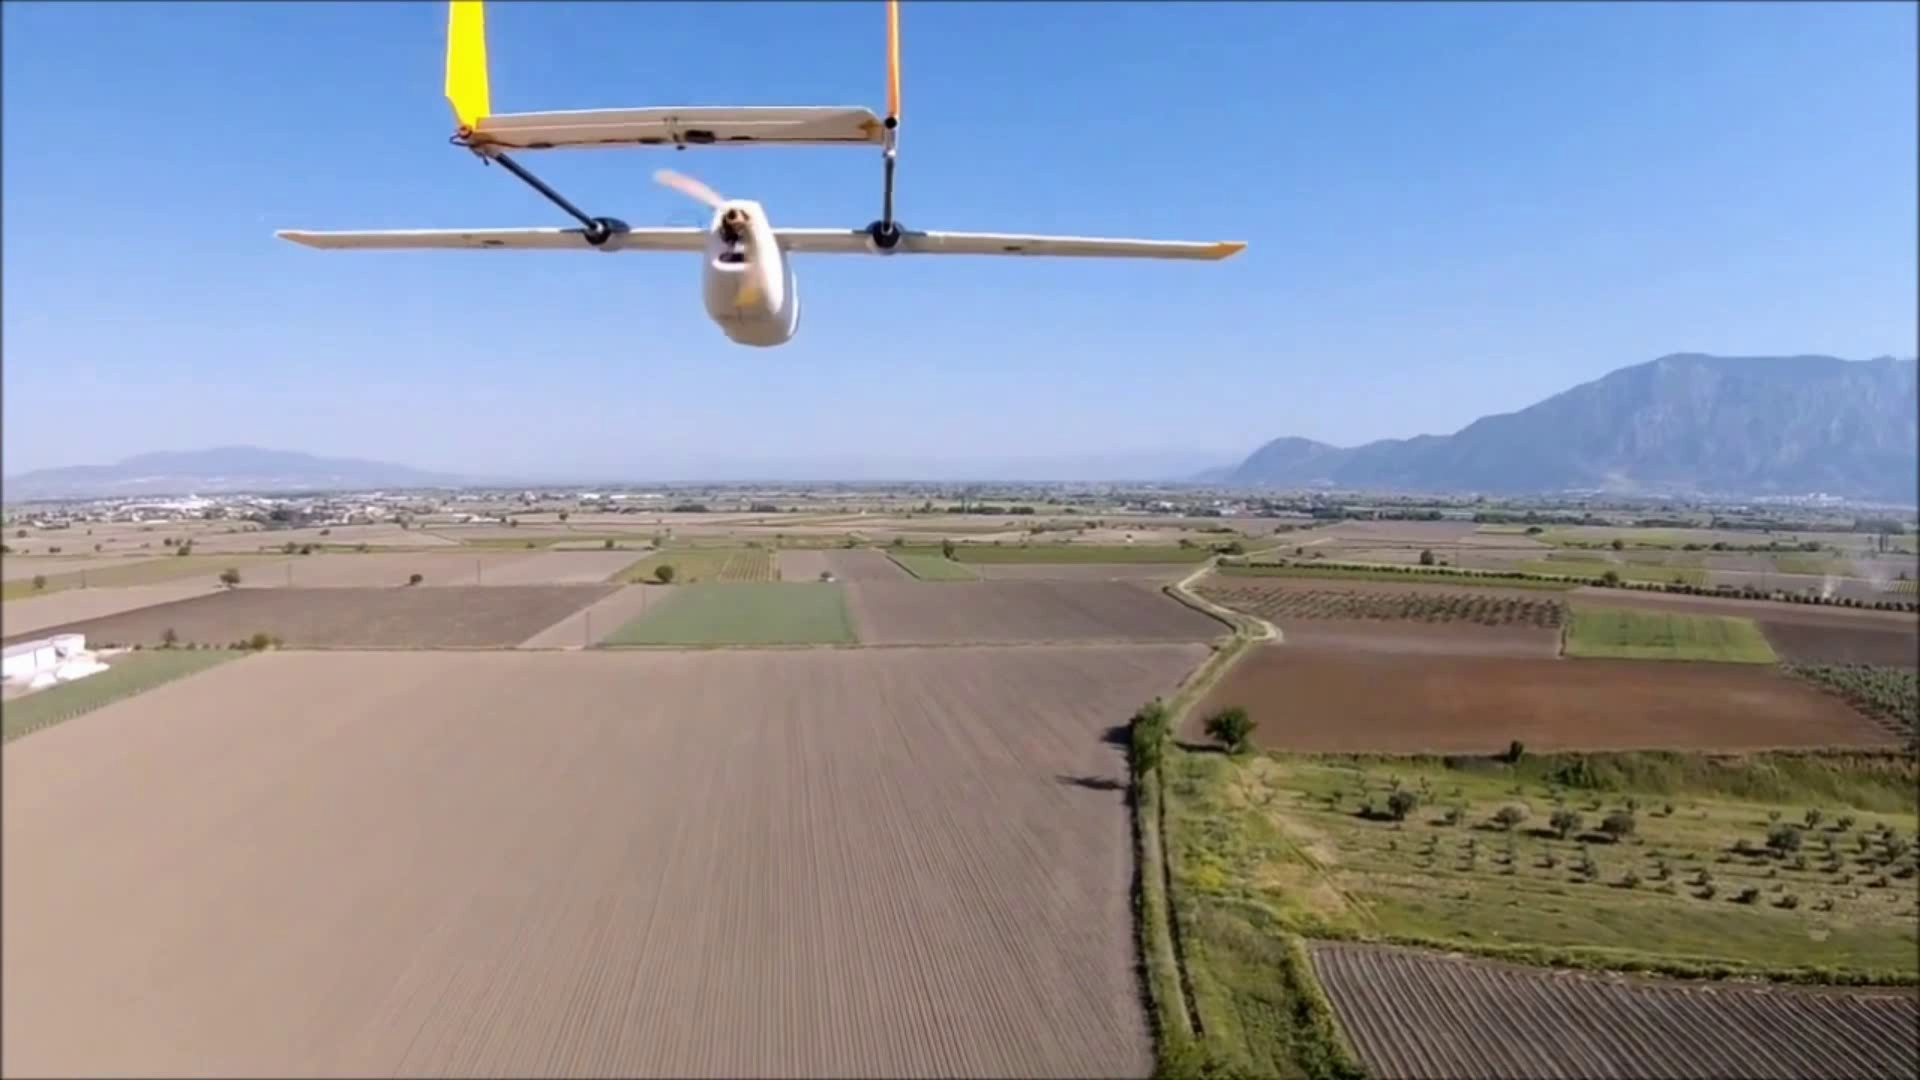airplane: (276, 7, 1245, 347)
